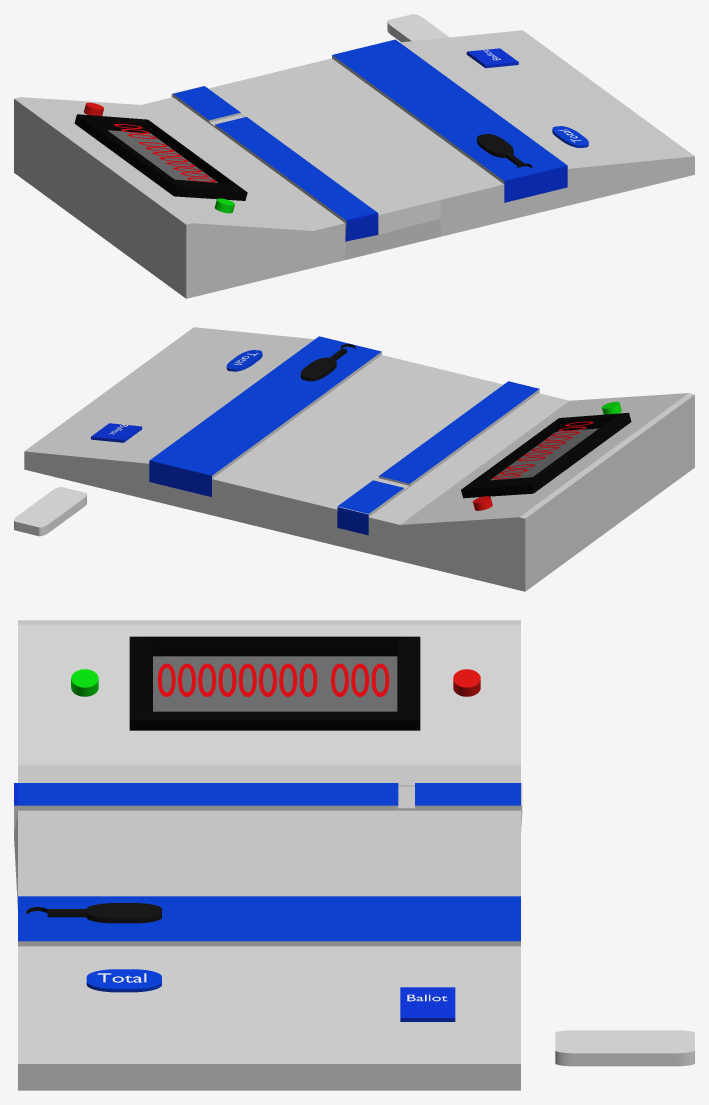
Rendered from voting machine.gltf.
The picture shows the model from 3 angles, top to bottom: view 1: azimuth 30°, elevation 25°; view 2: azimuth 150°, elevation 25°; view 3: azimuth 270°, elevation 25°; orthographic projection. The views are drawn at different scales.
Visible parts, largest first — view 1: Cube, Cube.001, Cube.003, Text.002, Cube.005, Cube.002, Cube.004; view 2: Cube, Cube.001, Cube.003, Text.002, Cube.005, Cube.002, Cube.004; view 3: Cube, Cube.001, Cube.003, Text.002, Cube.002, Cube.005, Cube.004.
Boxes of the visible parts, box(x1,y1,x2,y2) form: Cube: box(14, 30, 694, 298); Cube.001: box(74, 114, 247, 200); Cube.003: box(387, 14, 449, 42); Text.002: box(114, 124, 215, 182); Cube.005: box(477, 134, 532, 168); Cube.002: box(466, 48, 518, 68); Cube.004: box(552, 126, 588, 147); Cube: box(24, 327, 694, 591); Cube.001: box(461, 412, 631, 498); Cube.003: box(14, 487, 86, 536); Text.002: box(493, 421, 593, 479); Cube.005: box(300, 344, 355, 381); Cube.002: box(90, 423, 142, 442); Cube.004: box(226, 350, 262, 371); Cube: box(14, 620, 522, 1090); Cube.001: box(129, 636, 420, 730); Cube.003: box(555, 1030, 694, 1066); Text.002: box(158, 663, 389, 696); Cube.002: box(400, 987, 455, 1021); Cube.005: box(26, 903, 161, 923); Cube.004: box(86, 969, 161, 992).
Size of the model in its own units: 2.89 by 0.4494 by 2.3.
